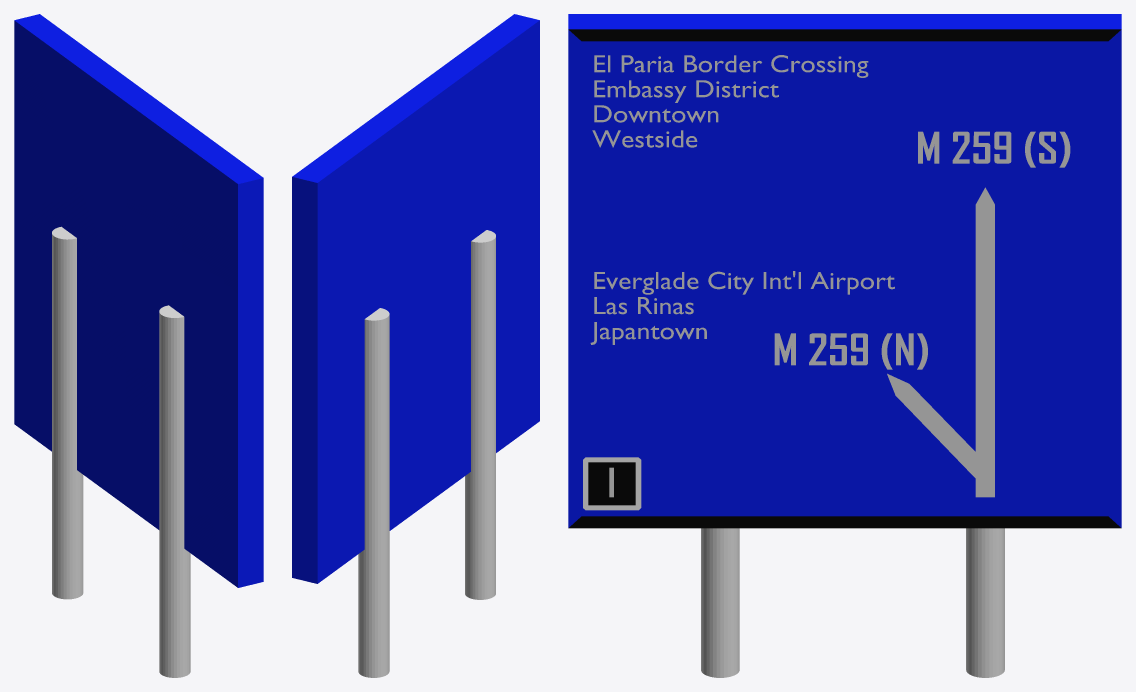
The model's file is UK_motorway_sign_2.fbx.
The picture shows the model from 3 angles, left to right: view 1: azimuth 30°, elevation 25°; view 2: azimuth 150°, elevation 25°; view 3: azimuth 270°, elevation 25°; orthographic projection. The views are drawn at different scales.
Visible parts, largest first — view 1: Cube.001, Cylinder, Cylinder.001; view 2: Cube.001, Cylinder.001, Cylinder; view 3: Cube.001, Plane, Cylinder.001, Cylinder, Text.002, Text.004, Plane.002, Text.001, Text.003, Plane.001.
Boxes of the visible parts, bbox=[...] form: Cube.001: bbox=[14, 14, 263, 587]; Cylinder: bbox=[159, 305, 190, 677]; Cylinder.001: bbox=[52, 226, 83, 599]; Cube.001: bbox=[292, 14, 539, 583]; Cylinder.001: bbox=[358, 308, 389, 677]; Cylinder: bbox=[465, 230, 495, 599]; Cube.001: bbox=[568, 14, 1121, 528]; Plane: bbox=[975, 187, 994, 497]; Cylinder.001: bbox=[966, 528, 1004, 677]; Cylinder: bbox=[701, 528, 739, 677]; Text.002: bbox=[592, 55, 868, 147]; Text.004: bbox=[590, 271, 894, 344]; Plane.002: bbox=[583, 457, 641, 510]; Text.001: bbox=[774, 333, 927, 369]; Text.003: bbox=[918, 131, 1070, 167]; Plane.001: bbox=[887, 373, 975, 477].
Size of the model in its own units: 6.09 by 74.37 by 56.78.
